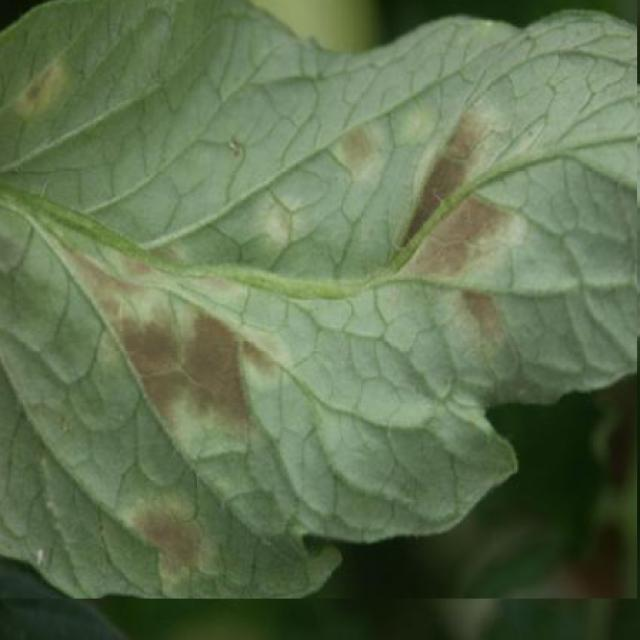Leaf Mold: (0, 0, 637, 599)
